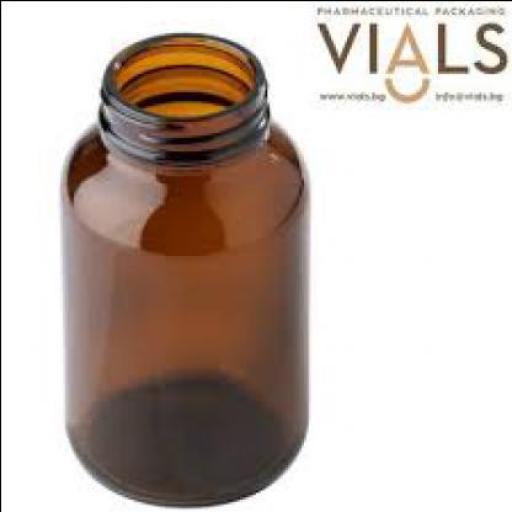glass: (59, 30, 305, 504)
